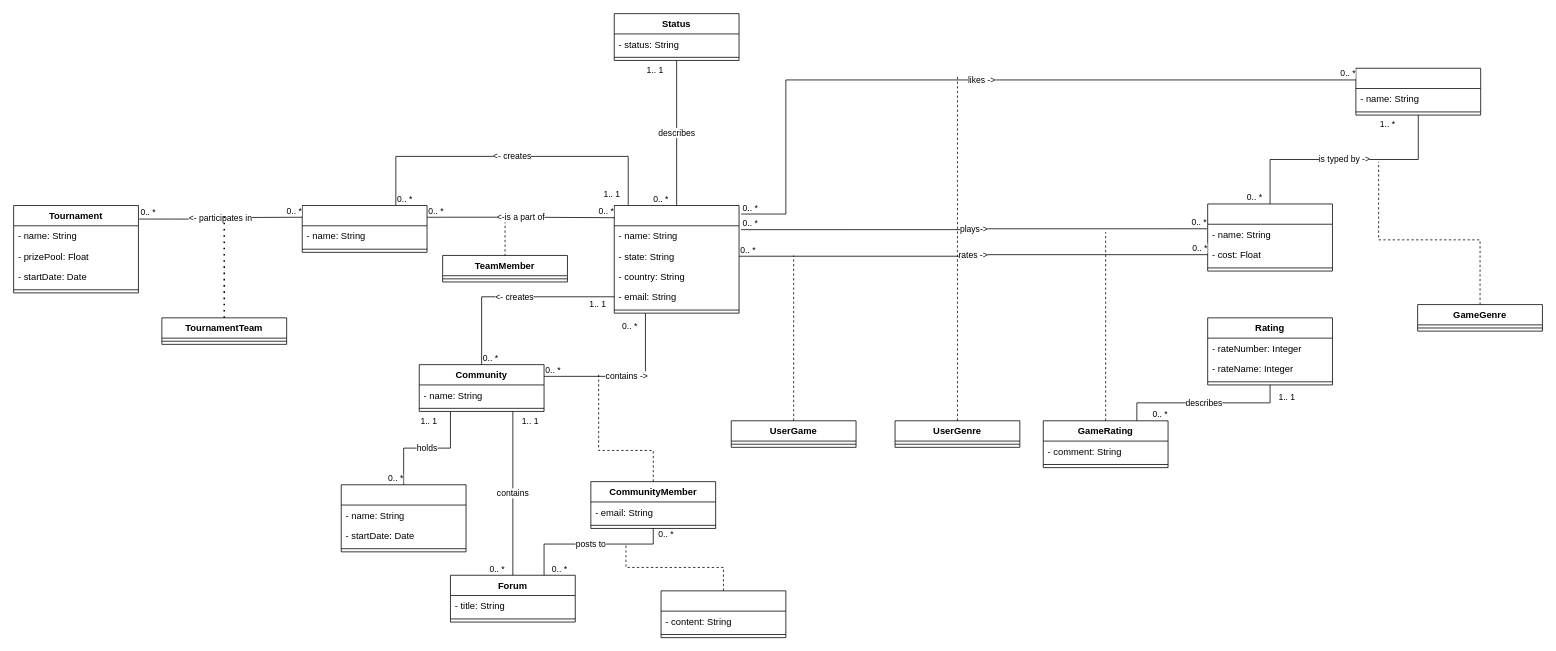
Image size: 1556x651. Some labels were removed from this diagram. The shapes that lost their labels are listed below. From the top down, each one's box as (x1, y1, x2, y2) in pixels, then its label:
(1355, 67, 1481, 115): Genre
(301, 205, 427, 252): Team
(1207, 203, 1332, 271): Game
(613, 205, 739, 313): User
(340, 484, 466, 552): Event
(660, 590, 786, 638): ForumPost
